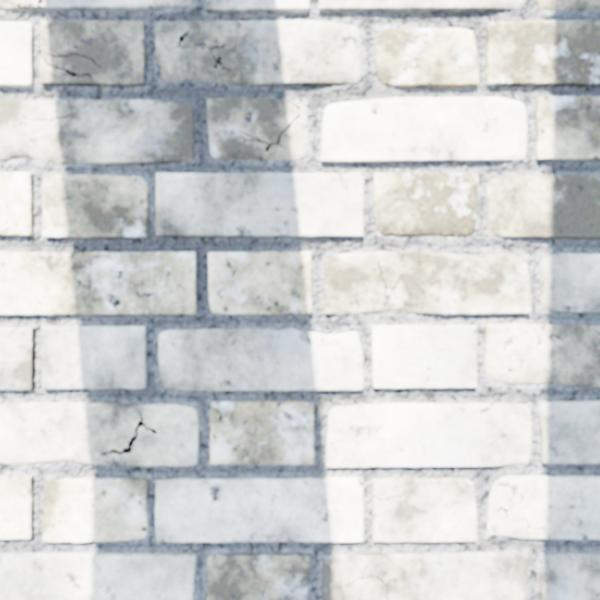brick: (157, 20, 361, 86), (322, 98, 526, 163), (157, 173, 363, 237), (326, 403, 531, 467), (157, 478, 362, 541), (324, 252, 531, 314), (159, 328, 363, 390), (0, 402, 199, 465), (0, 100, 195, 164), (0, 252, 196, 315), (323, 552, 530, 599), (0, 553, 196, 599), (486, 21, 599, 87), (487, 475, 599, 539), (486, 175, 599, 238), (485, 325, 599, 387), (42, 477, 148, 542), (40, 21, 145, 86), (42, 175, 148, 238), (372, 478, 476, 541), (42, 327, 147, 389), (211, 401, 314, 464), (373, 326, 476, 388), (374, 174, 477, 236), (209, 252, 311, 314), (208, 99, 307, 160), (377, 29, 479, 87), (208, 553, 310, 599), (535, 96, 599, 161), (539, 401, 599, 463), (540, 253, 599, 312), (540, 553, 599, 599), (320, 0, 524, 13), (0, 23, 34, 88), (0, 475, 34, 539), (0, 328, 35, 390), (0, 173, 34, 236), (0, 0, 192, 11), (207, 0, 309, 13), (538, 0, 599, 10), (12, 0, 36, 5)
crack: (238, 100, 301, 153), (497, 491, 550, 539), (40, 49, 102, 81), (2, 0, 45, 9), (373, 493, 404, 501), (479, 403, 495, 414), (338, 174, 344, 183), (472, 328, 477, 337), (593, 328, 599, 335), (0, 361, 9, 365)
